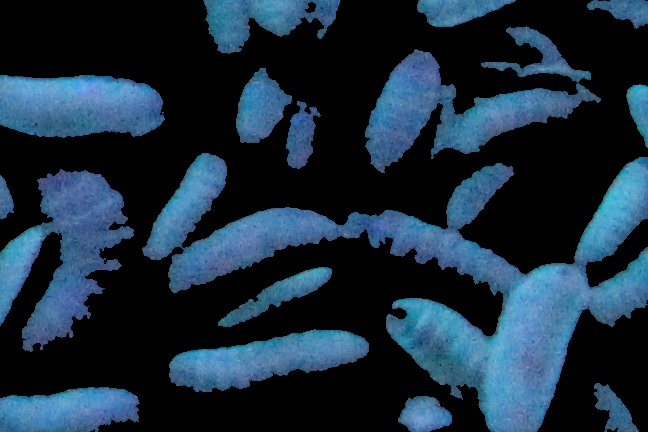larvae: (21, 175, 135, 353), (481, 262, 589, 432), (166, 208, 340, 292), (345, 203, 512, 290), (169, 328, 368, 392), (387, 293, 493, 395), (364, 47, 446, 172), (560, 158, 648, 273), (1, 77, 165, 136), (434, 90, 581, 155), (145, 157, 229, 259), (217, 267, 335, 325), (428, 164, 515, 232), (2, 390, 137, 432), (1, 224, 52, 330), (592, 251, 648, 327)
